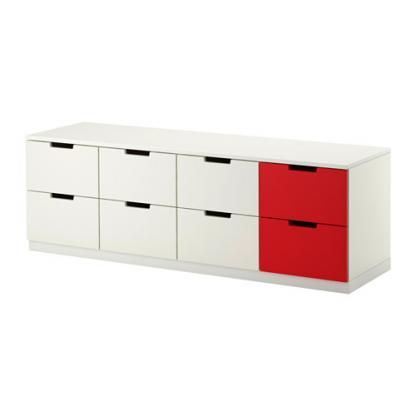Cabinet: (20, 117, 396, 296)
